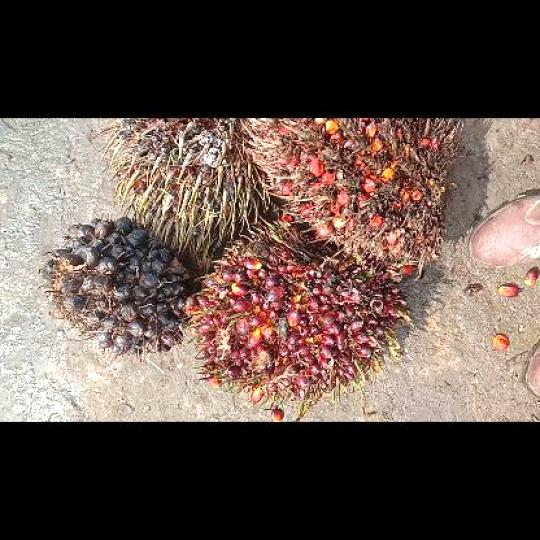masak: (184, 218, 414, 405)
terlalu masak: (242, 117, 462, 285)
